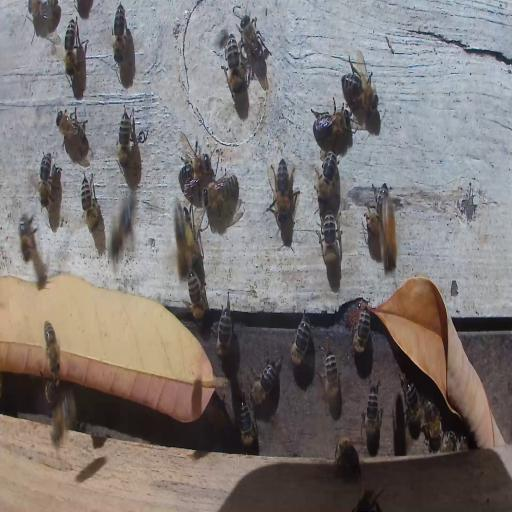nonpollenbee: (341, 62, 380, 117), (250, 349, 283, 406), (107, 202, 137, 264), (268, 158, 296, 222), (239, 13, 266, 75), (314, 104, 352, 144), (55, 106, 88, 151), (363, 380, 383, 454), (178, 136, 208, 185), (214, 296, 234, 367), (382, 192, 398, 274), (323, 346, 343, 410), (348, 304, 372, 356), (318, 210, 341, 264), (316, 150, 339, 202), (117, 106, 134, 174), (290, 315, 312, 367), (335, 436, 361, 479), (205, 174, 236, 210), (81, 173, 100, 231), (187, 268, 207, 321), (405, 380, 422, 439), (225, 36, 242, 95), (239, 397, 257, 452), (18, 212, 37, 262), (51, 392, 68, 447), (423, 399, 442, 445), (112, 3, 126, 63), (354, 486, 386, 512), (39, 151, 52, 208), (64, 18, 76, 79), (441, 428, 468, 452), (44, 374, 58, 406), (47, 2, 61, 30)
pollenbee: (171, 199, 194, 282), (41, 319, 63, 374)
